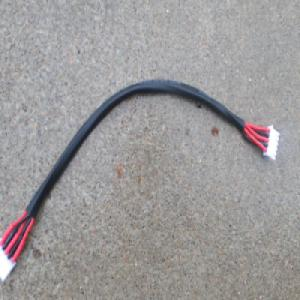Wire: (0, 78, 279, 284)
